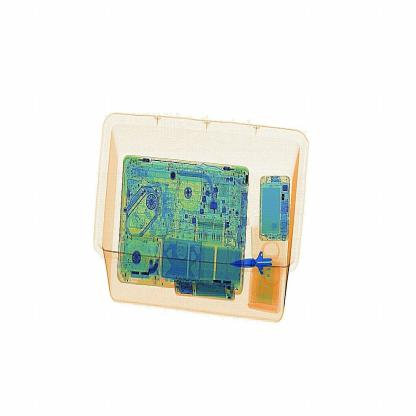gun: (227, 231, 286, 290)
